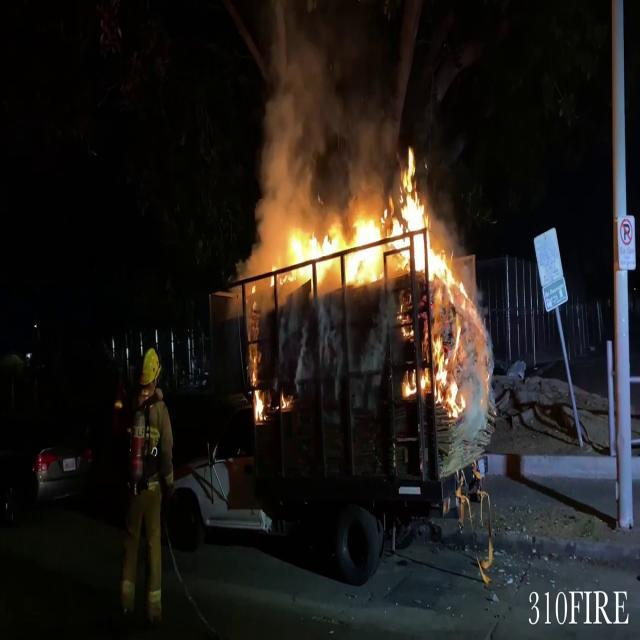Fire: (282, 146, 459, 294), (398, 187, 476, 418)
Smoke: (244, 1, 398, 210)
